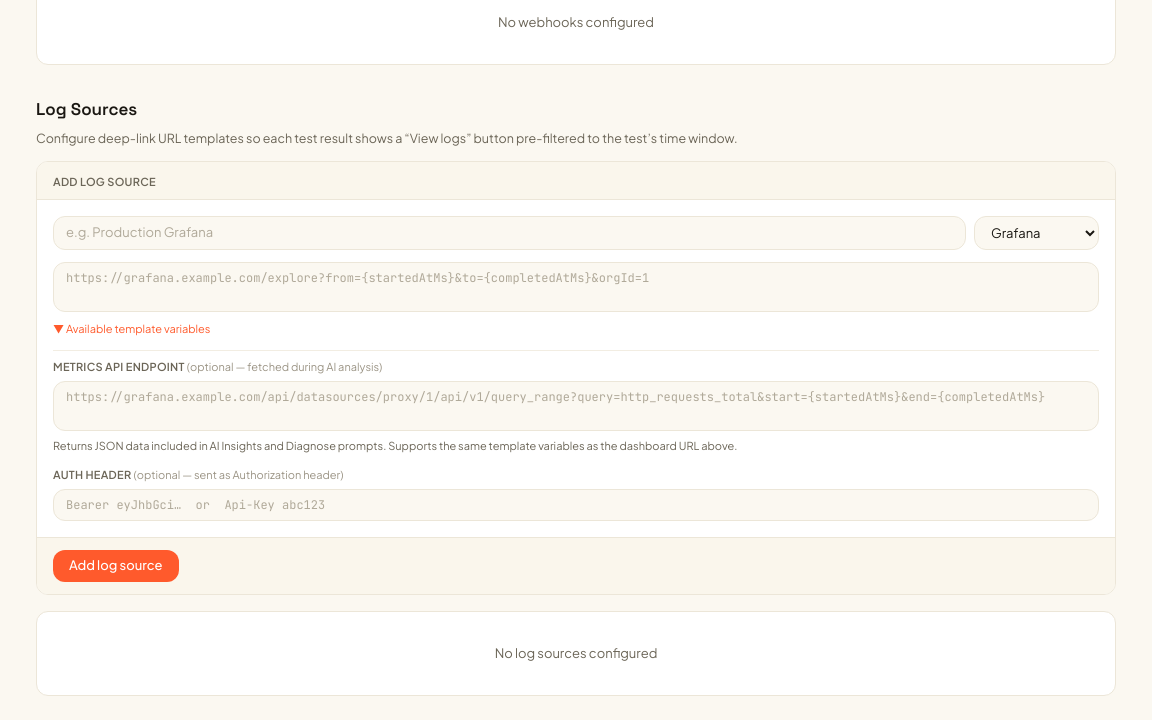
Scenario: WebhooksPage — log source create flow › shows a validation error when required fields are missing
(page scrolled)
expect the text "No log sources configured" is shown: met, box [36,611,1116,696]
Click the button "Add log source": (116, 566) [53,550,179,582]
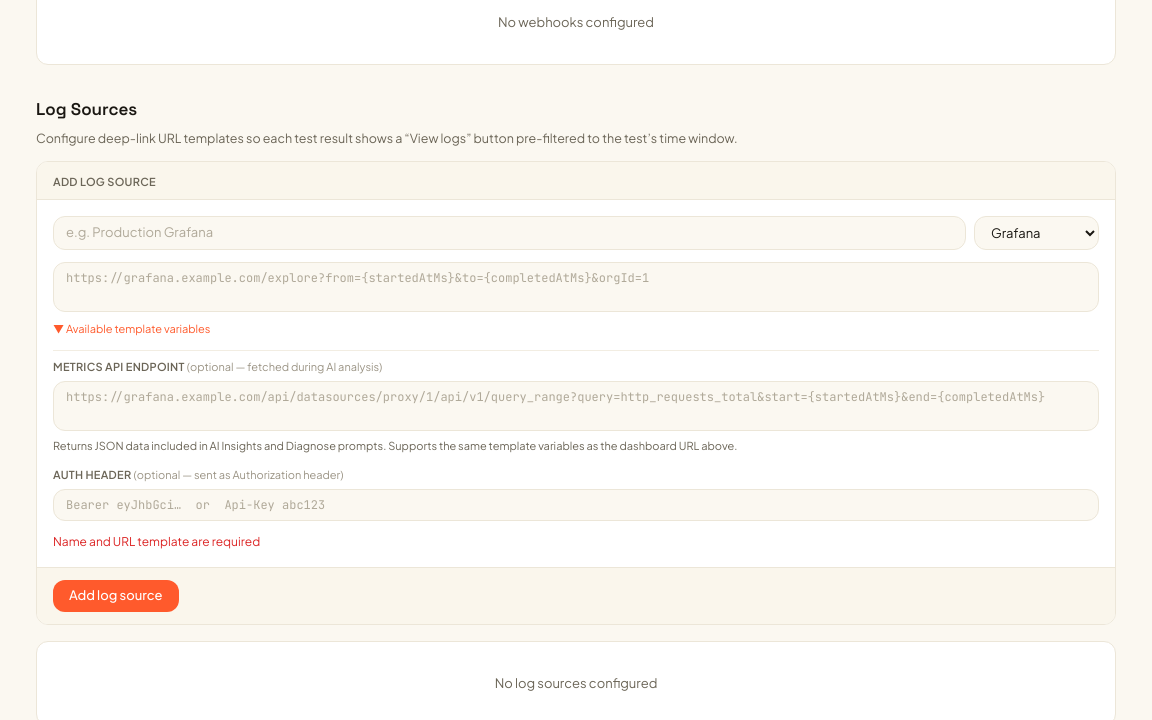
expect the text "Name and URL template are required" is shown: met, box [53,534,260,549]
